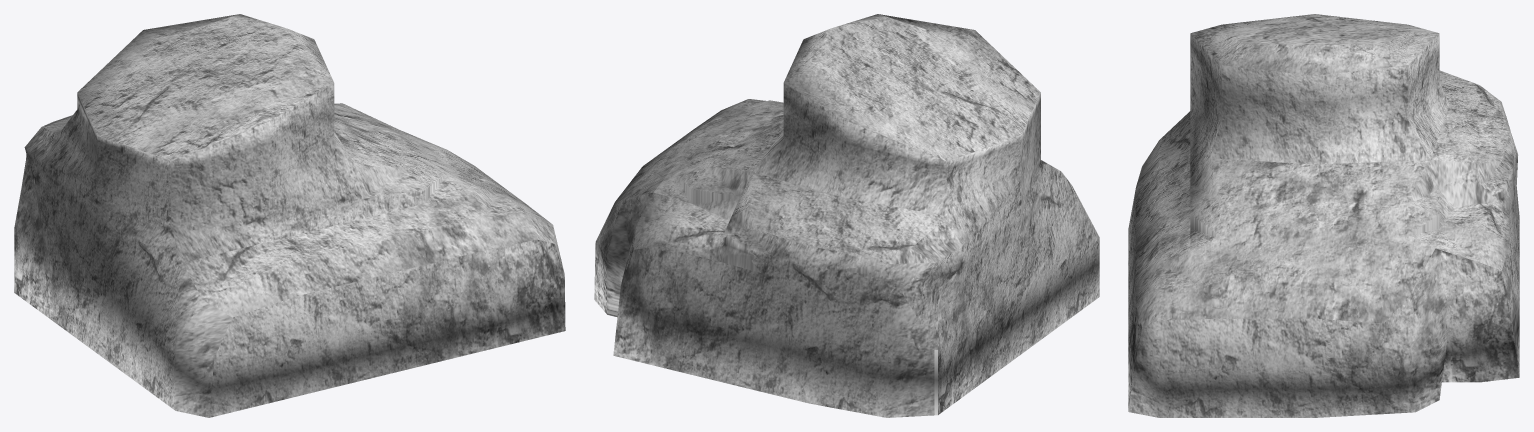
Rendered from SmallRock.fbx.
The picture shows the model from 3 angles, left to right: view 1: azimuth 30°, elevation 25°; view 2: azimuth 150°, elevation 25°; view 3: azimuth 270°, elevation 25°; orthographic projection.
Parts seen in each view (by area): view 1: pCube1; view 2: pCube1; view 3: pCube1.
Boxes of the visible parts, x1,y1,x2,y2 form: pCube1: (14,14,565,417); pCube1: (594,14,1099,417); pCube1: (1128,14,1519,417).
Bounding box in the file's own units: 1 × 0.6915 × 0.8855.
Materials: 1 (1 with a texture image).
